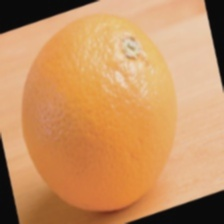orange: (35, 45, 224, 199)
